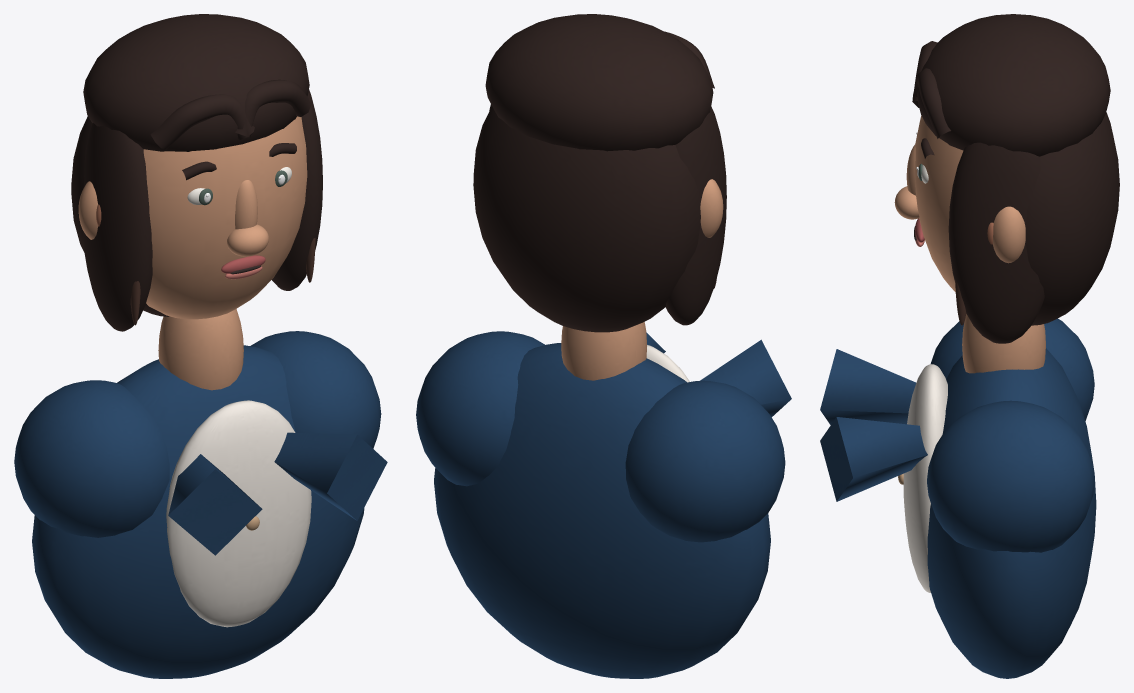
Rendered from jordan.glb.
3 renders of one model, left to right at view 1: azimuth 30°, elevation 25°; view 2: azimuth 150°, elevation 25°; view 3: azimuth 270°, elevation 25°, orthographic. The views are drawn at different scales.
Parts seen in each view (by area): view 1: Body, Head, Face; view 2: Body, Head; view 3: Body, Head, Face.
Part boxes in pixels (<box>): Body: <box>14,309,387,678</box>; Head: <box>71,14,322,331</box>; Face: <box>143,116,307,319</box>; Body: <box>416,322,791,678</box>; Head: <box>473,14,726,332</box>; Body: <box>820,314,1096,678</box>; Head: <box>894,14,1119,343</box>; Face: <box>914,115,963,291</box>.
Size of the model in its own units: 2.32 by 4.14 by 1.79.
17 materials, 17 textured.
